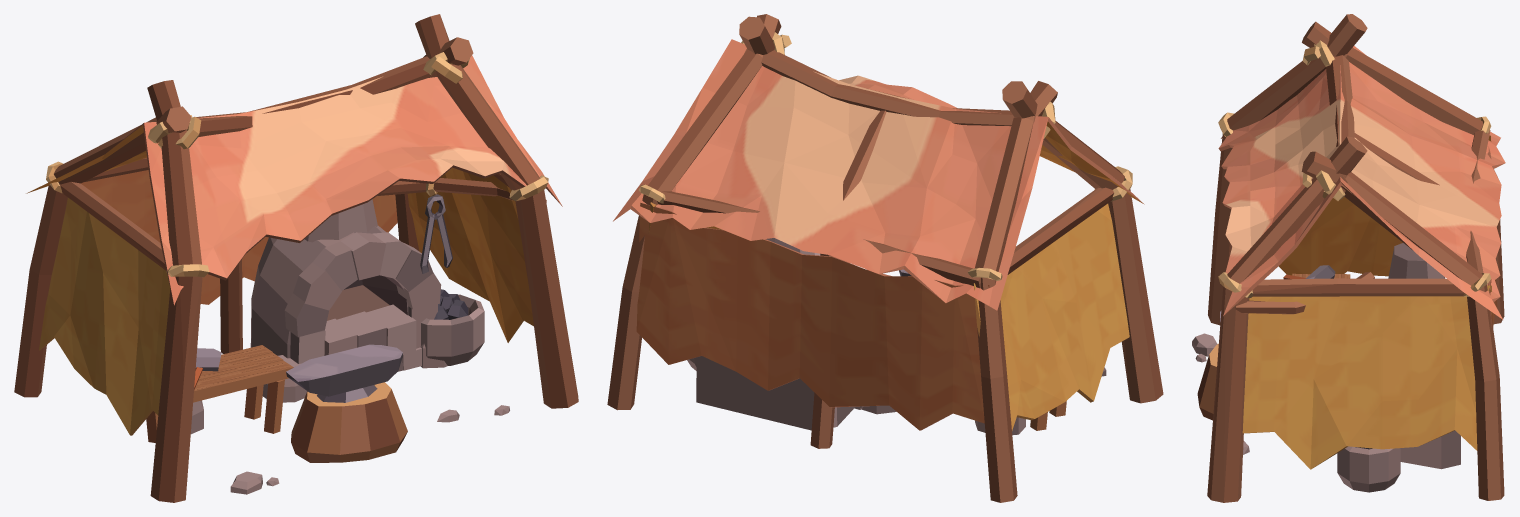
File: Primitive_Blacksmith_Shelter.glb
The picture shows the model from 3 angles, left to right: view 1: azimuth 30°, elevation 25°; view 2: azimuth 150°, elevation 25°; view 3: azimuth 270°, elevation 25°; orthographic projection. The views are drawn at different scales.
Visible parts, largest first — view 1: Primitive Blacksmith Shelter; view 2: Primitive Blacksmith Shelter; view 3: Primitive Blacksmith Shelter.
Part boxes in pixels (x1=…): Primitive Blacksmith Shelter: x1=14, y1=14, x2=578, y2=502; Primitive Blacksmith Shelter: x1=607, y1=14, x2=1163, y2=502; Primitive Blacksmith Shelter: x1=1192, y1=14, x2=1505, y2=502.
Bounding box in the file's own units: 5.38 × 4.32 × 3.69.
Materials: 3 (3 with a texture image).
